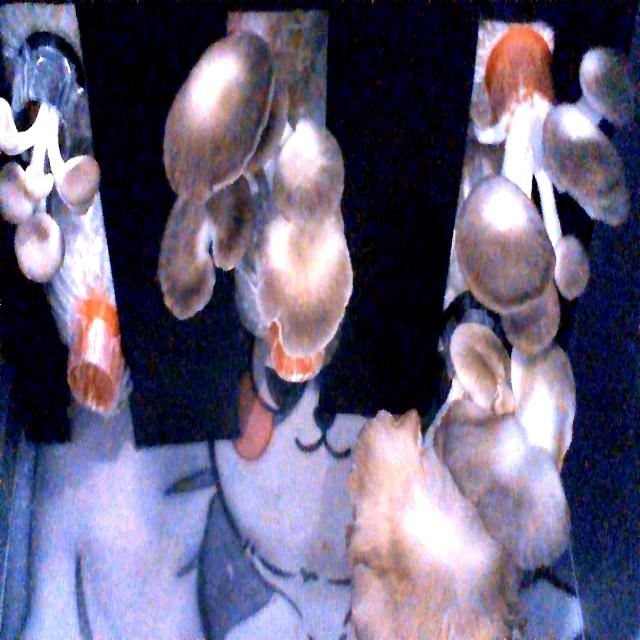big: (324, 318, 579, 636), (150, 36, 353, 388), (449, 33, 637, 364)
nfound: (55, 316, 139, 456)
small: (0, 74, 109, 274)
